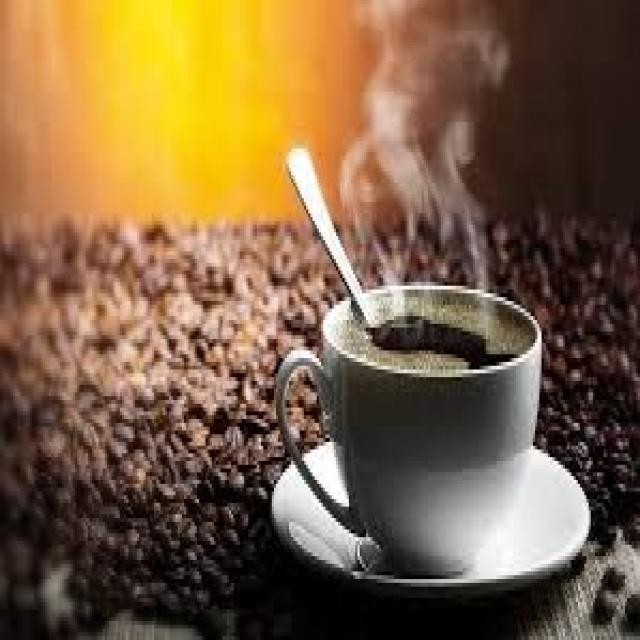taza: (262, 290, 557, 576)
